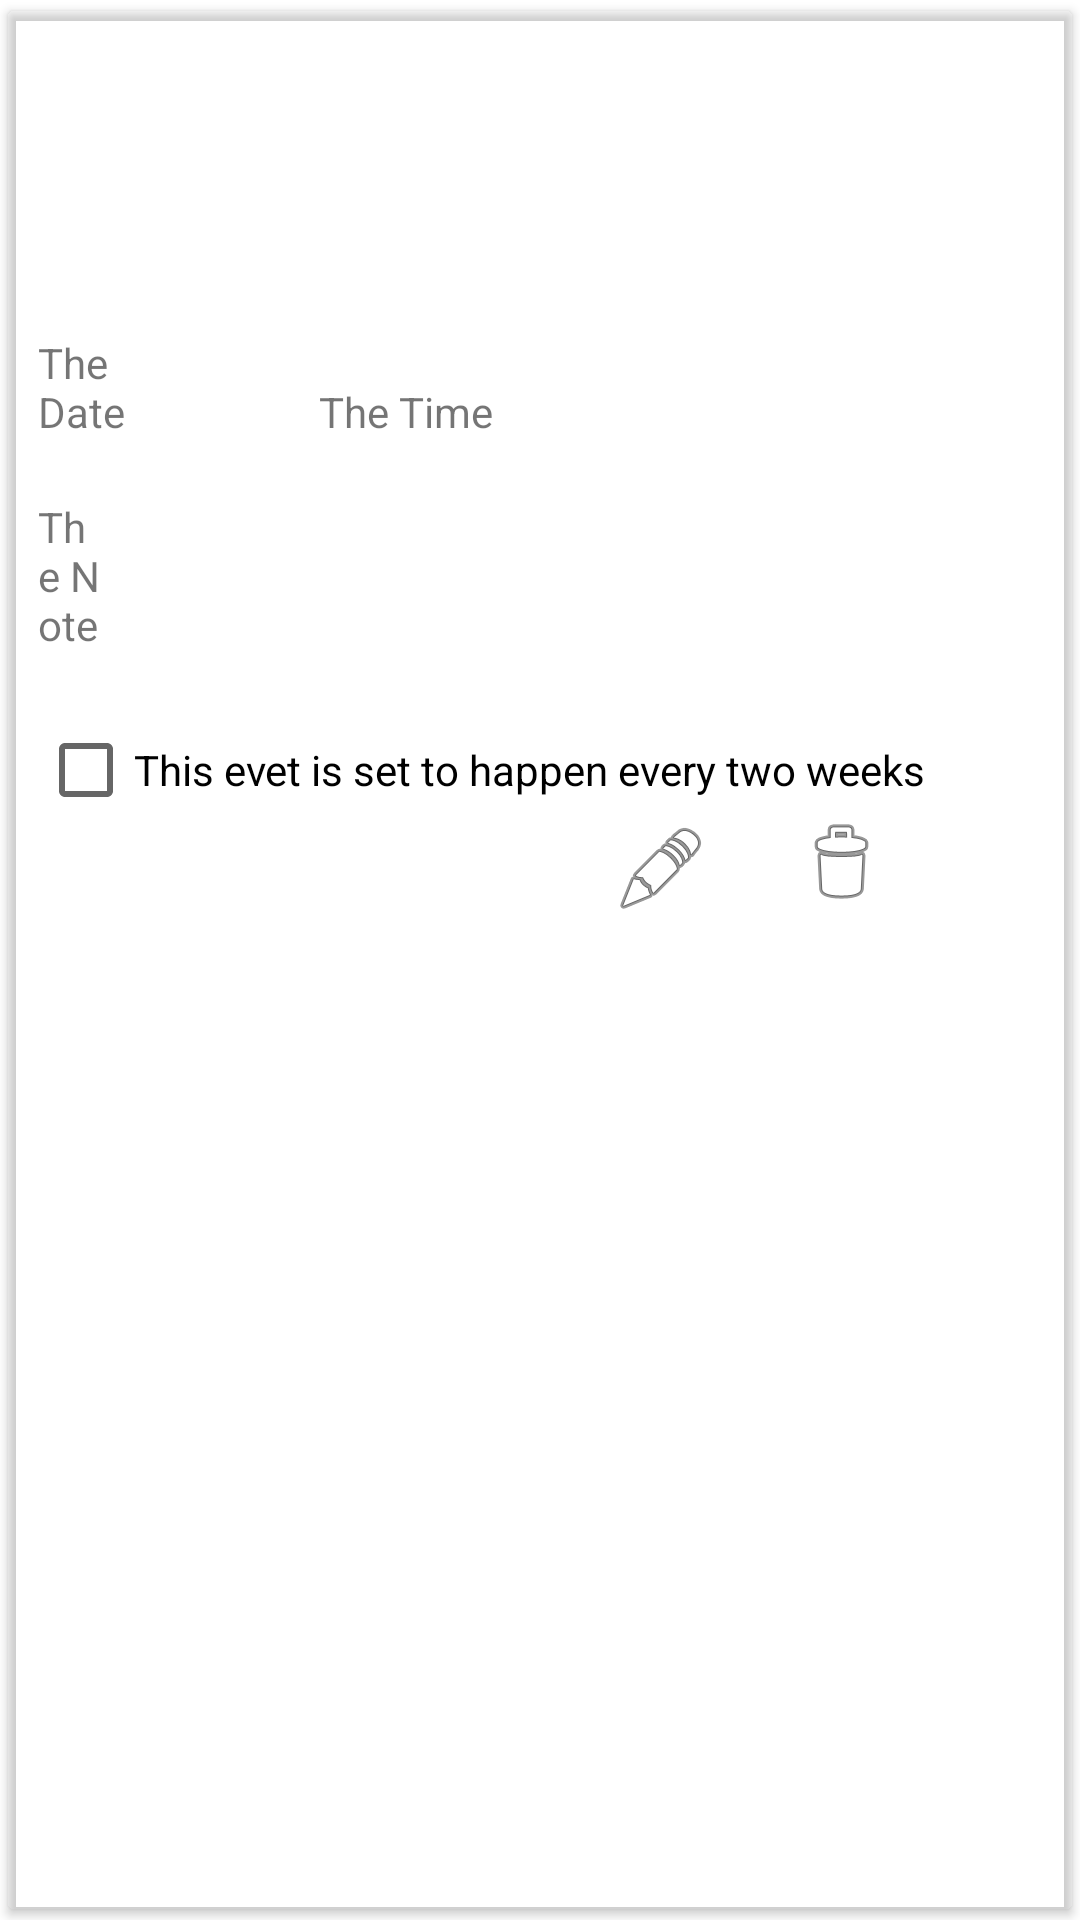

Locate icon controls on the screen. Image size 1080x1920, boxes as (x1=x1, y1=y1, x2=x2, y2=y2).
delete: (x1=814, y1=824, x2=869, y2=899)
edit: (x1=620, y1=828, x2=701, y2=909)
